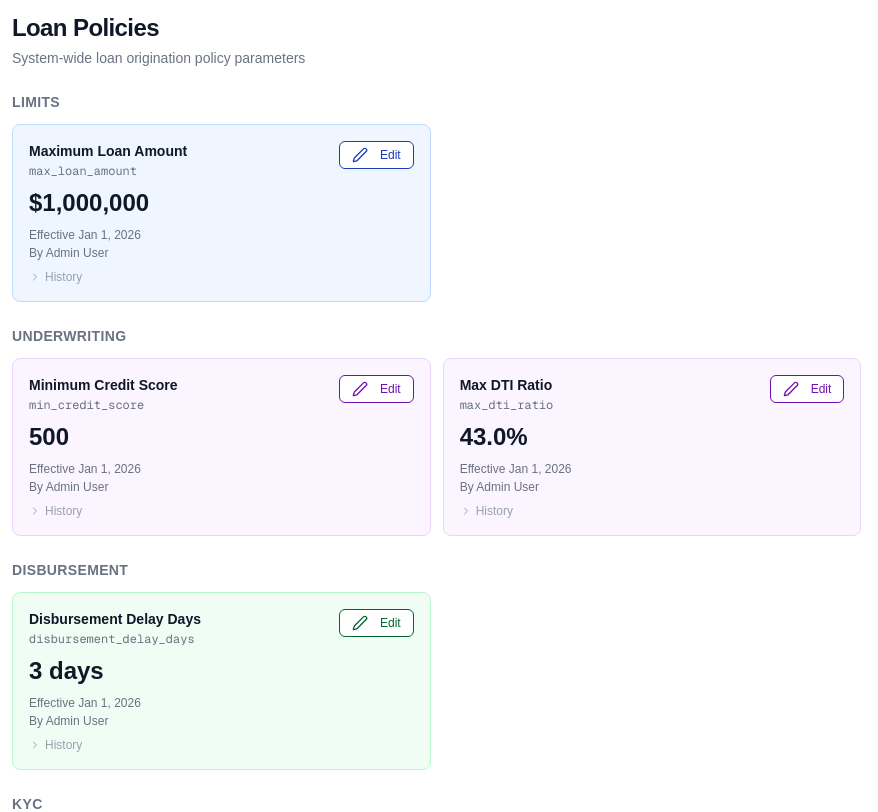
Test: PoliciesPage › edit form › closes form when Cancel is clicked
Click the button "Edit" next to "Maximum Loan Amount" at point(376, 155), box [339,141,414,169]
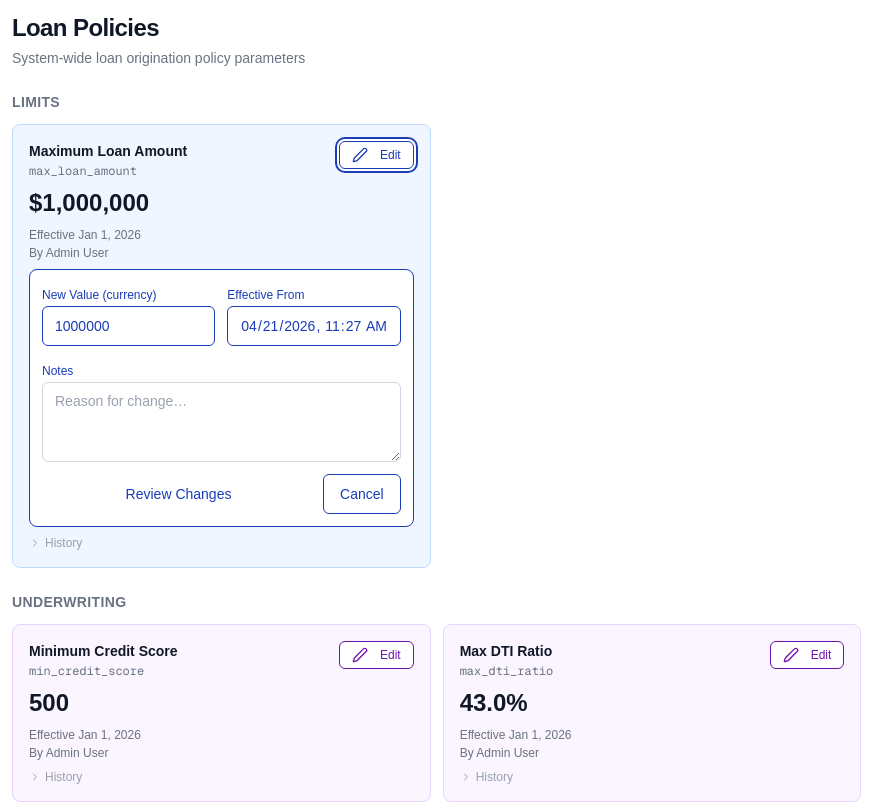
Expected: the button "Cancel" is shown
Click the button "Cancel" at point(362, 494), box [323,474,401,514]
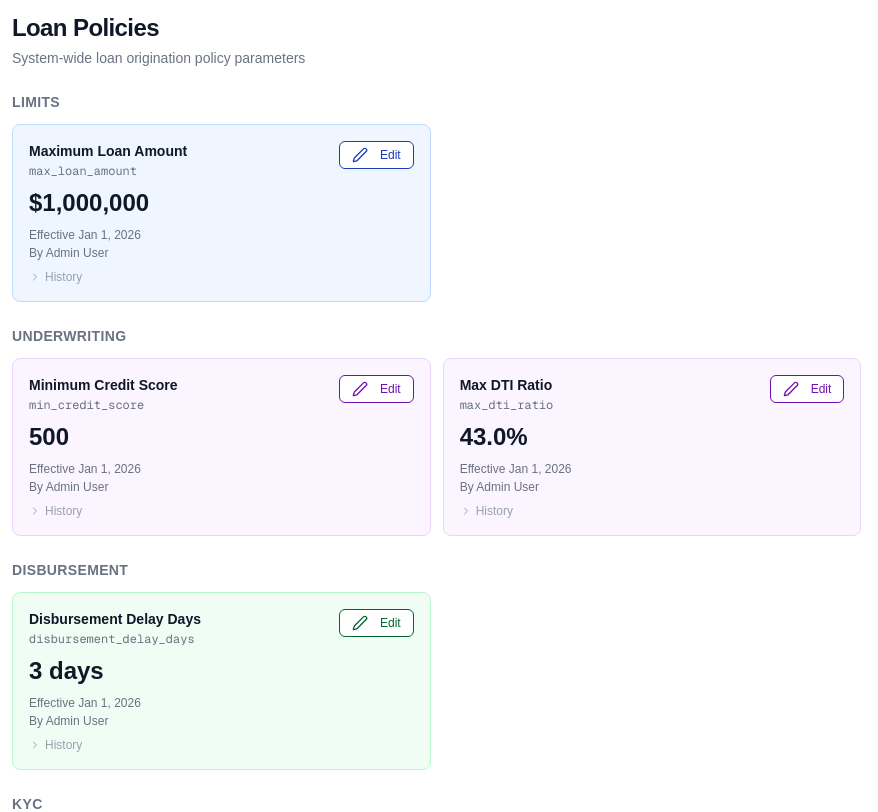
Expected: the button "Review Changes" is gone
